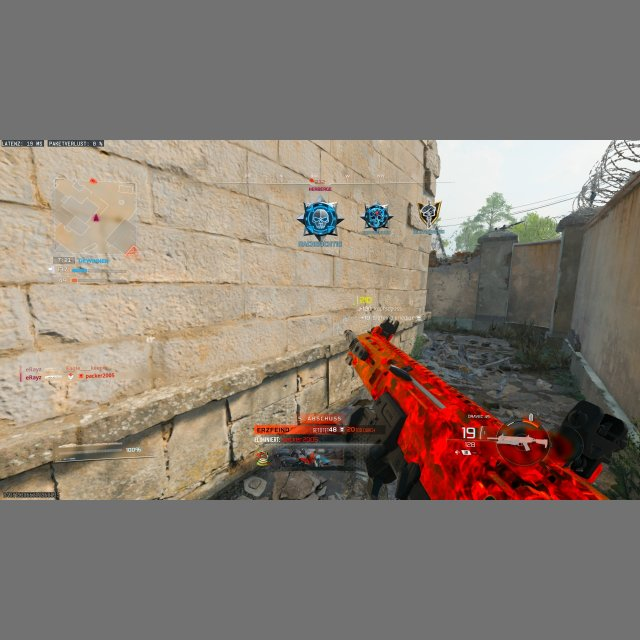player: (346, 319, 422, 499)
